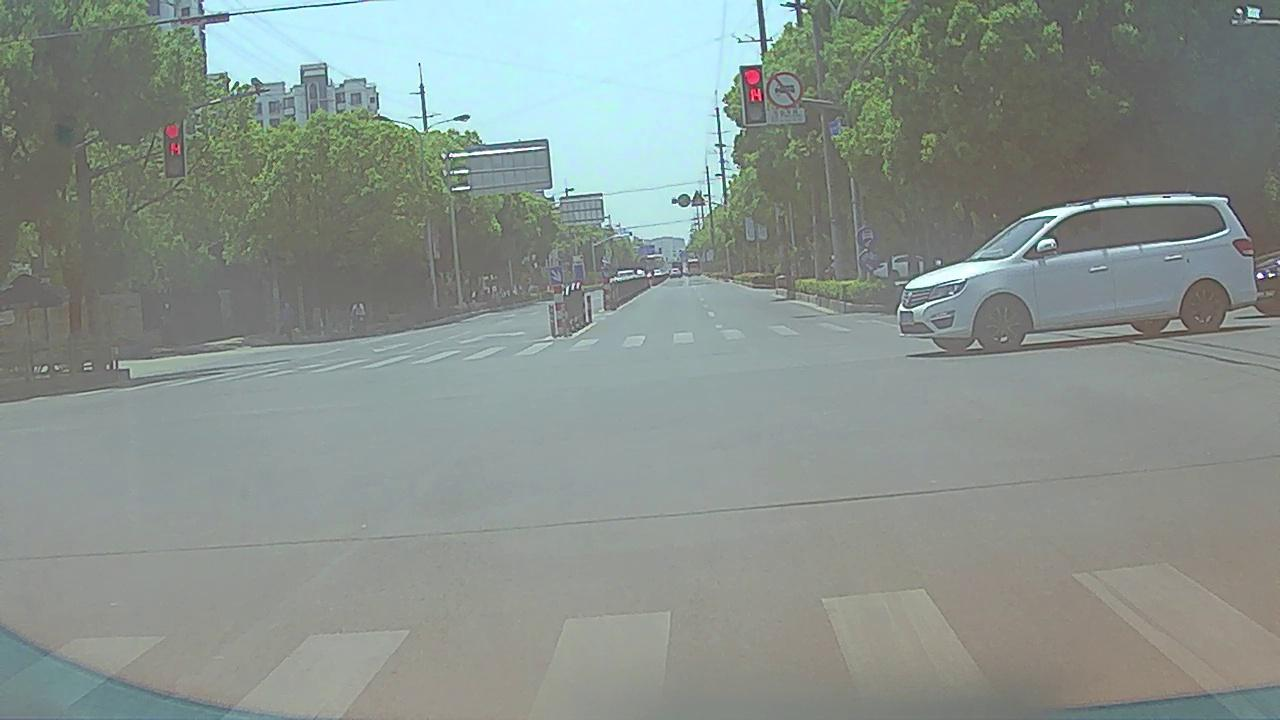traffic_light: (165, 113, 184, 180), (744, 68, 763, 126)
